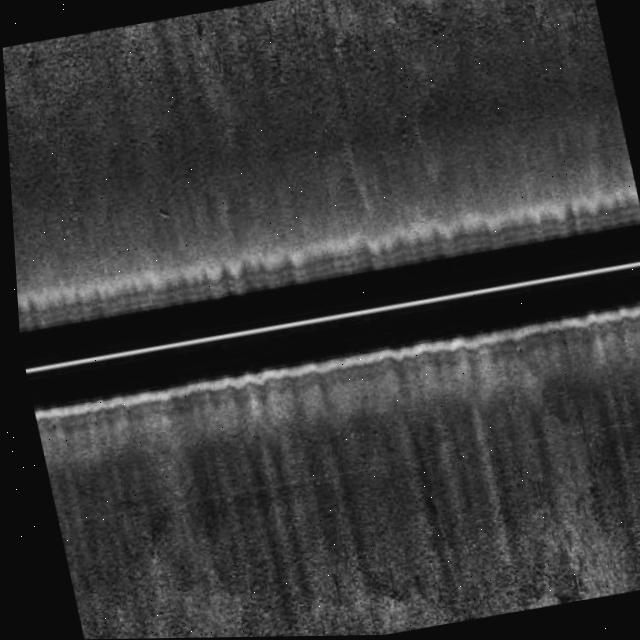mine: (151, 205, 172, 224)
